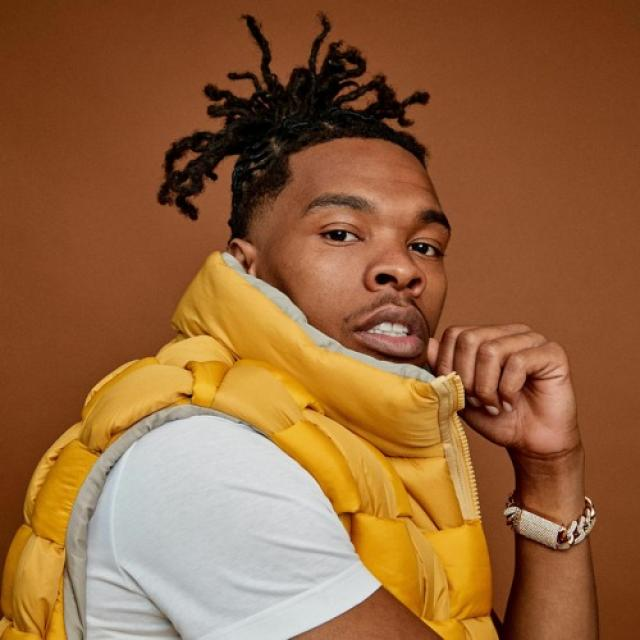adult: (0, 13, 606, 640)
